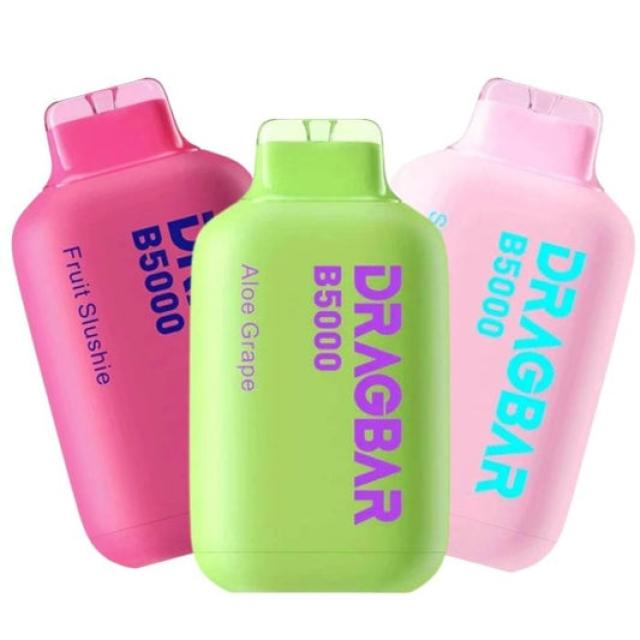Vapes: (186, 116, 452, 594)
